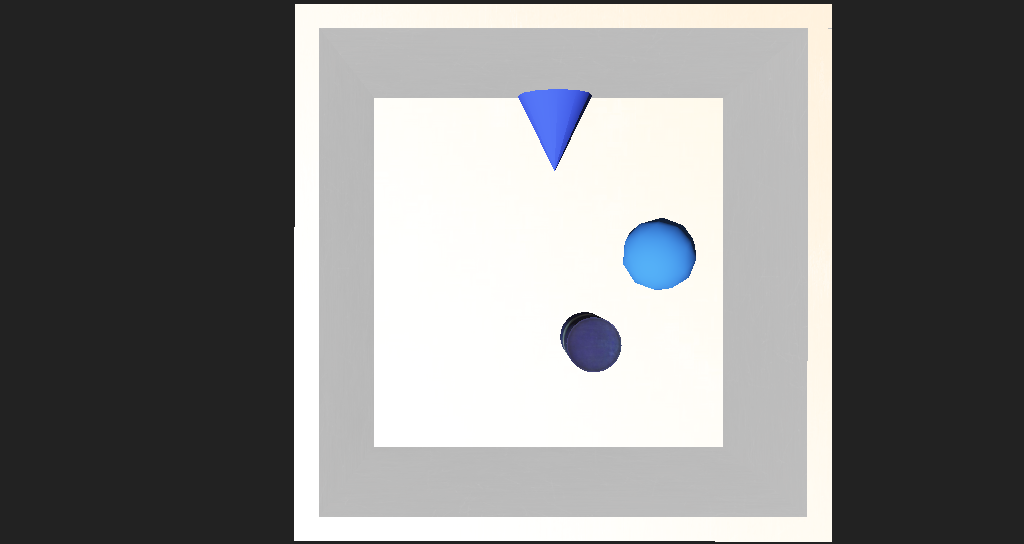cone: (522, 291, 569, 329)
cylinder: (482, 153, 542, 210)
sphere: (566, 236, 633, 279)
